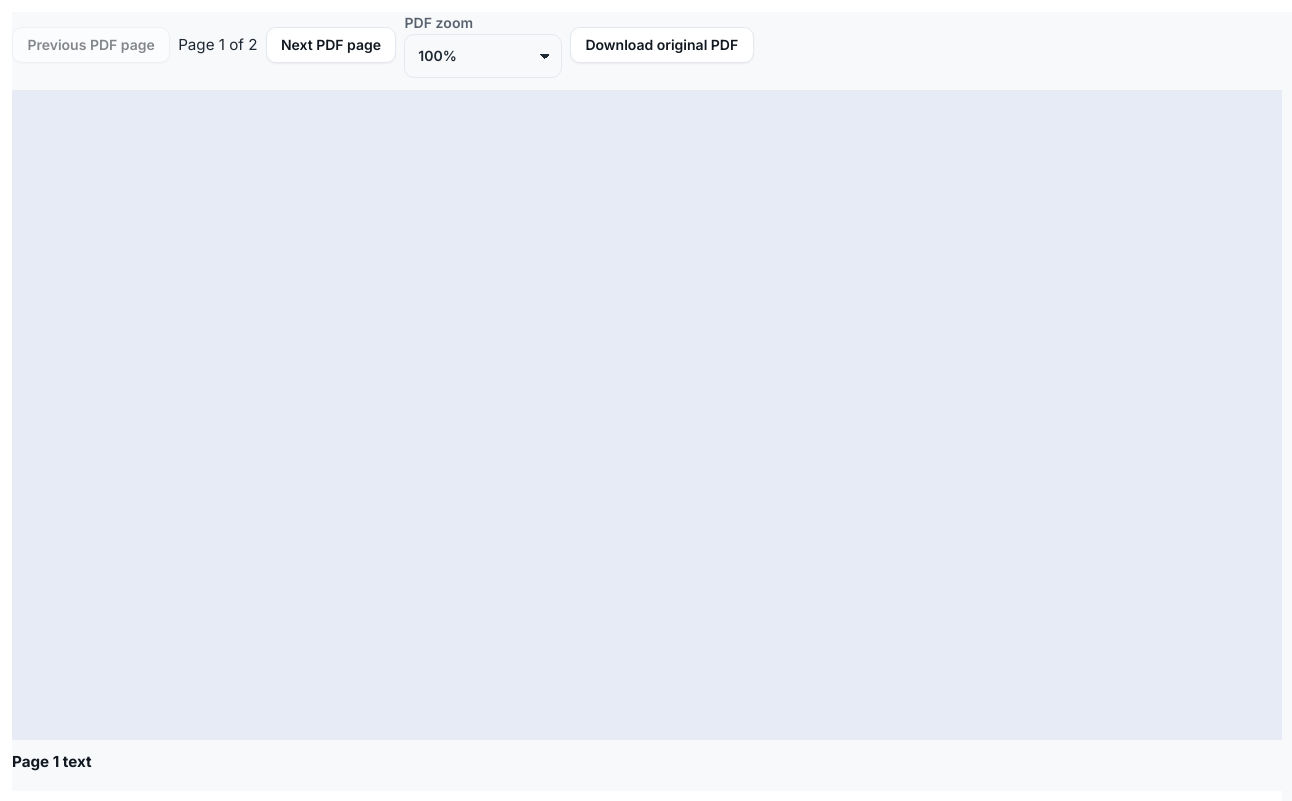
Test: downloads only the revision-checked authorized PDF and reports revoked or changed files
Step 1. Click the button "Download original PDF" → (662,45), box [570,27,754,63]
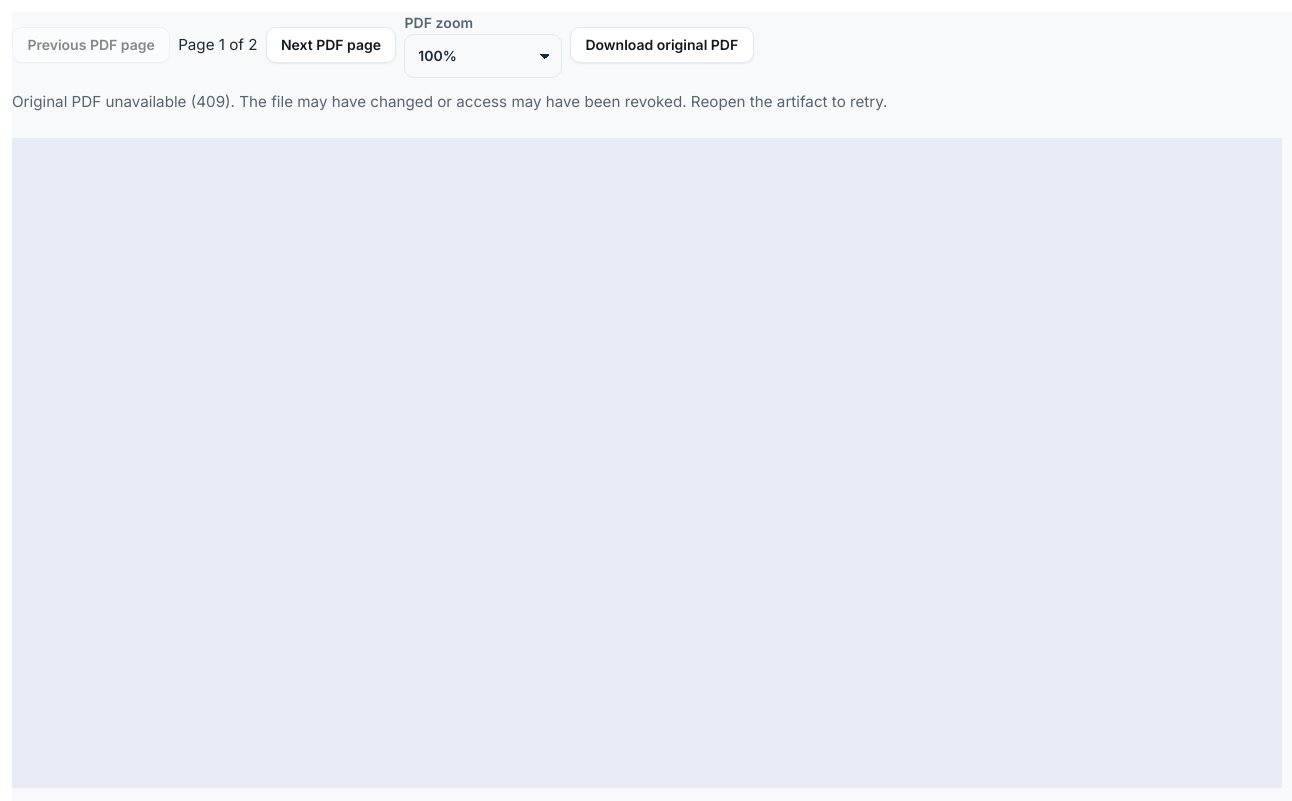
expect the message shows "Original PDF unavailable (409)": met, box [12,92,888,111]
Step 2. Click the button "Download original PDF" → (662,45), box [570,27,754,63]
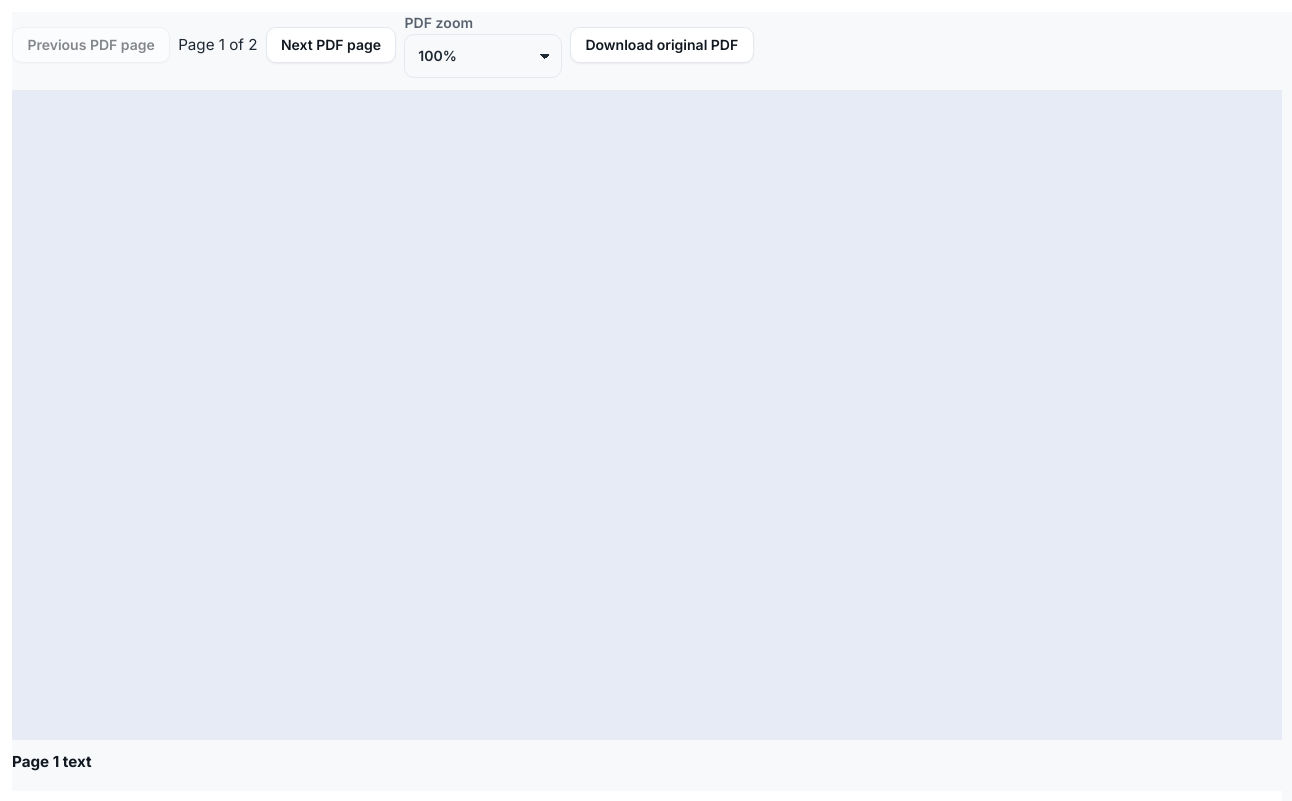
expect the message is gone: met
